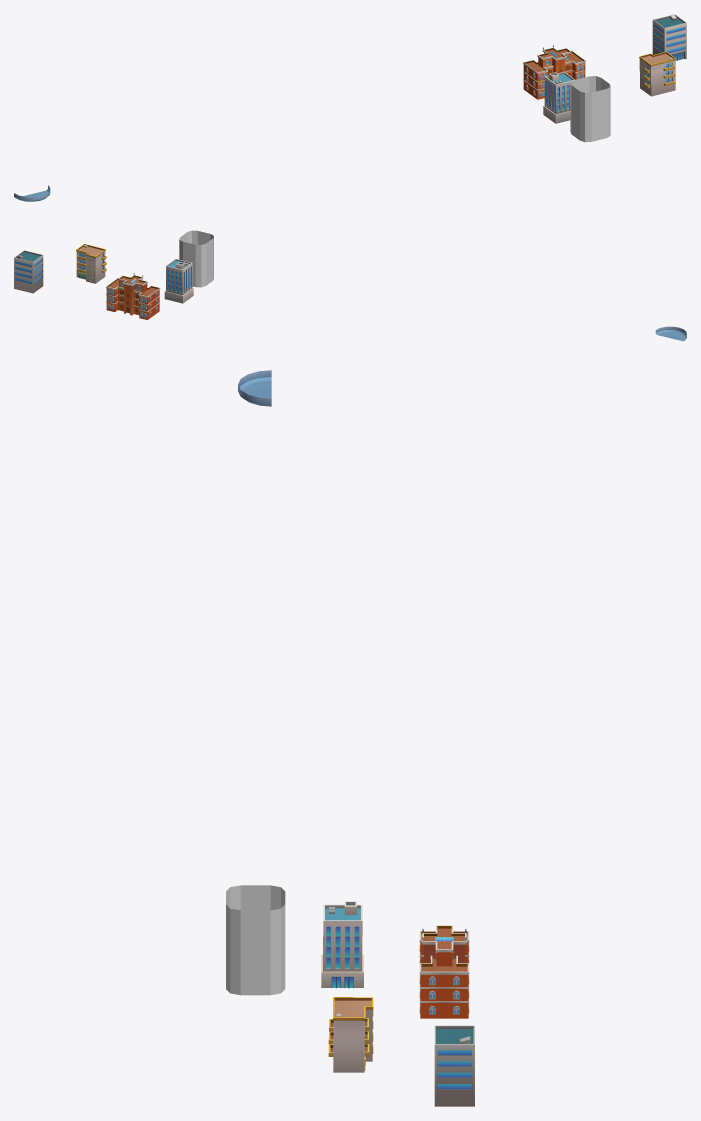
Rendered from assets_t1_a4.fbx.
3 views of the same model, one above another, from view 1: azimuth 30°, elevation 25°; view 2: azimuth 150°, elevation 25°; view 3: azimuth 270°, elevation 25° (orthographic). The views are drawn at different scales.
Parts seen in each view (by area): view 1: Asset, Godray; view 2: Asset, Godray, Ground; view 3: Asset, Godray.
Part boxes in pixels (x1,y1,x2,y2): Asset: (523, 14, 686, 123); Godray: (570, 76, 610, 142); Asset: (14, 243, 193, 319); Godray: (179, 230, 213, 287); Ground: (655, 326, 686, 341); Asset: (321, 901, 474, 1106); Godray: (226, 885, 285, 995).
Bounding box in the file's own units: 3430 × 351 × 597.
